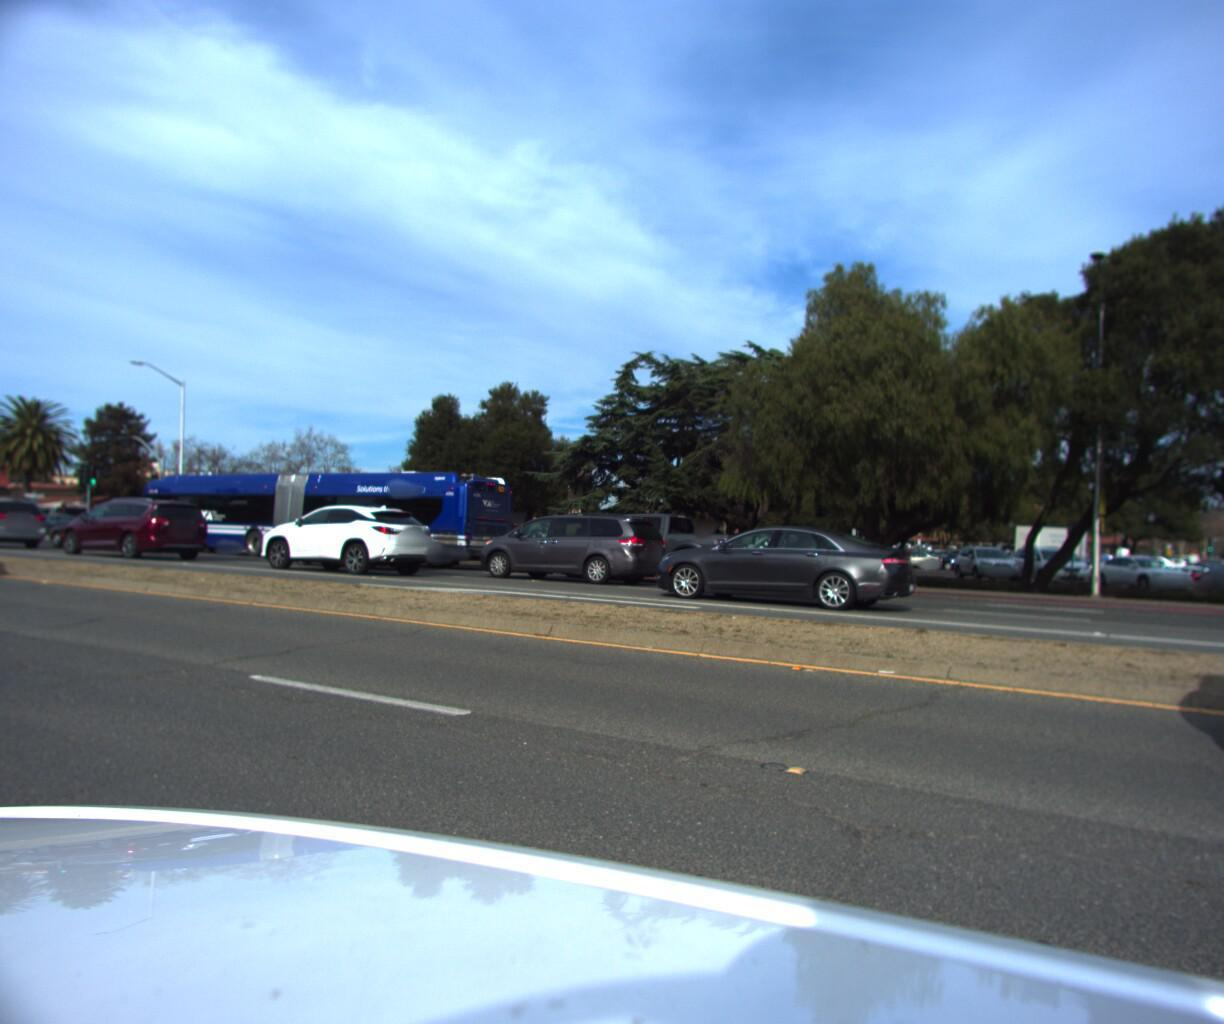bus: (122, 471, 536, 578)
car: (625, 518, 929, 616), (538, 509, 763, 594), (232, 499, 453, 585), (463, 506, 684, 590), (42, 497, 220, 567), (39, 513, 162, 557), (0, 496, 64, 557), (3, 515, 96, 540)
